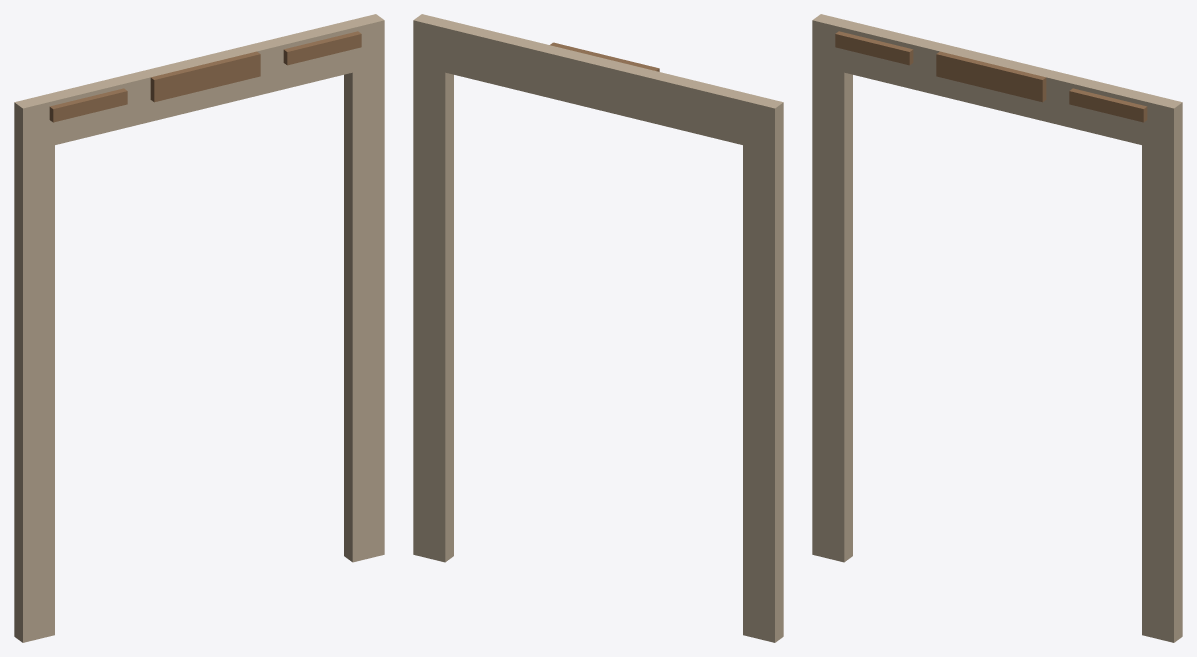
The picture shows the model from 3 angles, left to right: view 1: azimuth 30°, elevation 25°; view 2: azimuth 150°, elevation 25°; view 3: azimuth 330°, elevation 25°; orthographic projection.
Visible parts, largest first — view 1: left-jamb, right-jamb, header, crown-center, crown-wing-0.55, crown-wing--0.55; view 2: left-jamb, right-jamb, header; view 3: right-jamb, left-jamb, header, crown-center, crown-wing--0.55, crown-wing-0.55.
Part boxes in pixels (box(x1,y1,x2,y2)): left-jamb: box(14, 145, 54, 642); right-jamb: box(344, 65, 384, 562); header: box(14, 14, 384, 152); crown-center: box(150, 51, 260, 102); crown-wing-0.55: box(283, 31, 361, 65); crown-wing--0.55: box(49, 88, 127, 122); left-jamb: box(743, 145, 783, 642); right-jamb: box(413, 65, 453, 562); header: box(413, 14, 783, 152); right-jamb: box(1142, 145, 1182, 642); left-jamb: box(812, 65, 852, 562); header: box(812, 14, 1182, 152); crown-center: box(936, 51, 1046, 102); crown-wing--0.55: box(835, 31, 913, 65); crown-wing-0.55: box(1069, 88, 1147, 122).
Size of the model in its own units: 1.7 by 2.4 by 0.1.
